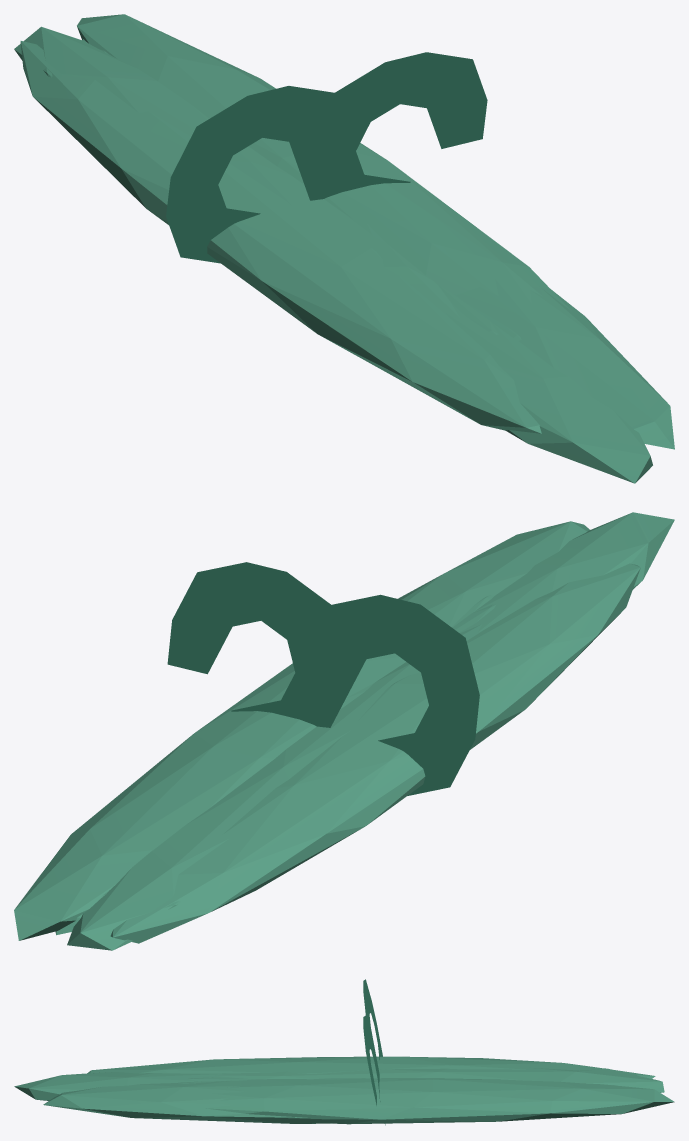
Rendered from christella-dentata.glb.
3 renders of one model, top to bottom at view 1: azimuth 30°, elevation 25°; view 2: azimuth 150°, elevation 25°; view 3: azimuth 270°, elevation 25°, orthographic. The views are drawn at different scales.
Visible parts, largest first — view 1: frond3, frond0, fiddle-1, fiddle1, frond1, frond4, frond2; view 2: frond3, frond0, fiddle1, fiddle-1, frond4, frond2, frond1; view 3: frond0, frond1, frond3, frond4, frond2, fiddle-1, fiddle1.
Part boxes in pixels (x1,y1,x2,y2): frond3: (20, 41, 541, 433); frond0: (77, 14, 571, 310); fiddle-1: (166, 86, 347, 263); fiddle1: (303, 52, 487, 200); frond1: (456, 278, 674, 449); frond4: (14, 26, 460, 318); frond2: (444, 302, 652, 483); frond3: (110, 563, 640, 943); frond0: (14, 653, 405, 940); fiddle1: (167, 562, 345, 727); fiddle-1: (310, 594, 479, 795); frond4: (67, 624, 484, 950); frond2: (459, 512, 674, 633); frond1: (398, 521, 589, 626); frond0: (206, 1078, 674, 1124); frond1: (43, 1080, 344, 1123); frond3: (87, 1056, 655, 1078); frond4: (215, 1067, 664, 1092); frond2: (14, 1072, 234, 1100); fiddle-1: (363, 979, 382, 1069); fiddle1: (363, 1015, 385, 1125).
Bounding box in the file's own units: 0.184 × 0.1055 × 0.618.
